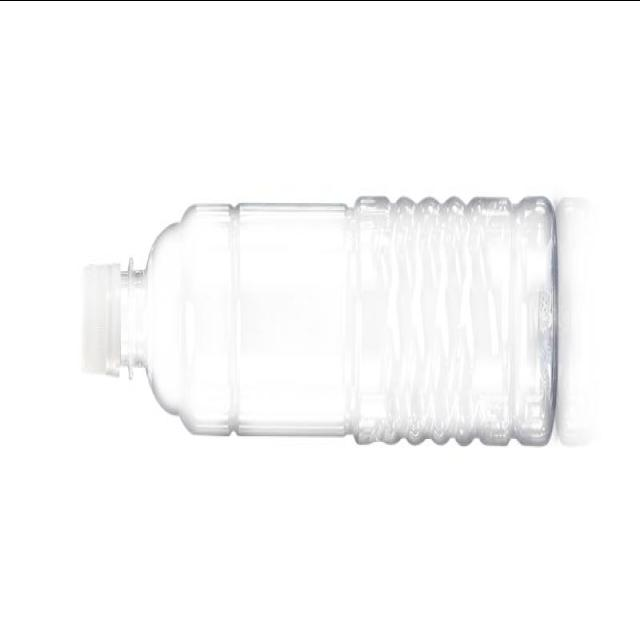bottom: (508, 183, 563, 461)
cap: (64, 228, 143, 406)
